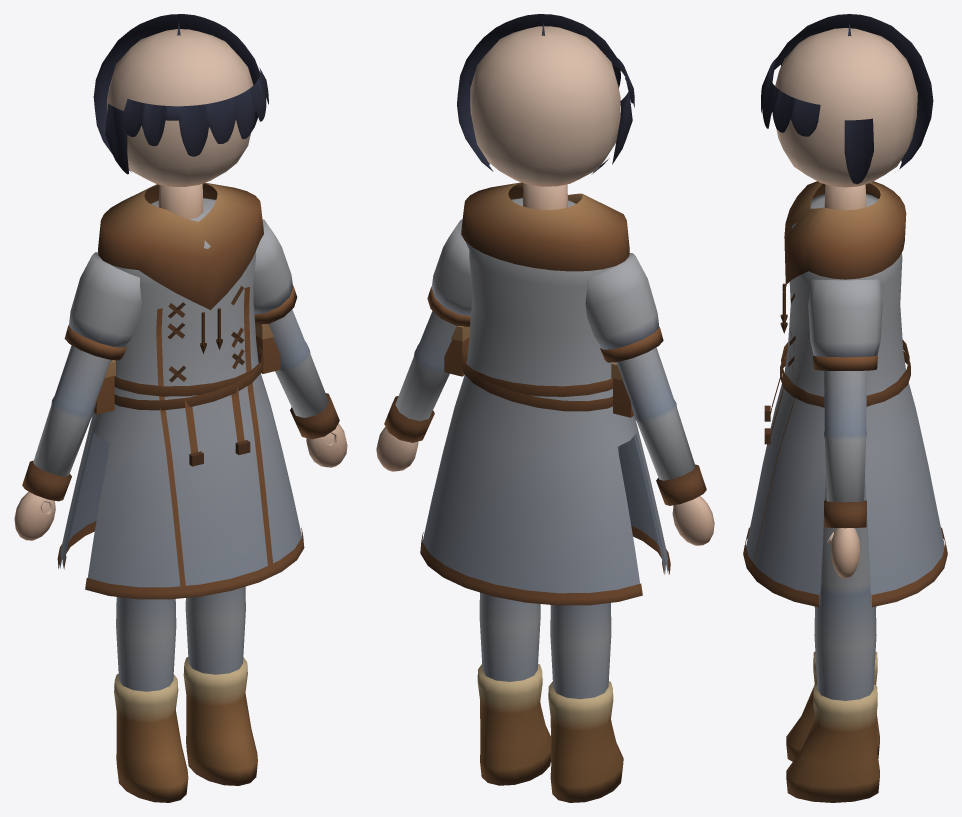
File: rota_down.glb
3 views of the same model, side by side, from view 1: azimuth 30°, elevation 25°; view 2: azimuth 150°, elevation 25°; view 3: azimuth 270°, elevation 25° (orthographic).
Visible parts, largest first — view 1: Rota_Cloth, Rota_Leather, Rota_Body, Rota_Hair; view 2: Rota_Cloth, Rota_Leather, Rota_Body, Rota_Hair; view 3: Rota_Cloth, Rota_Leather, Rota_Body, Rota_Hair.
Boxes of the visible parts, box(x1,y1,x2,y2) form: Rota_Cloth: box(33, 198, 328, 691); Rota_Leather: box(22, 182, 339, 802); Rota_Body: box(14, 29, 347, 540); Rota_Hair: box(93, 14, 268, 174); Rota_Cloth: box(395, 198, 695, 699); Rota_Leather: box(384, 182, 706, 802); Rota_Body: box(376, 26, 714, 545); Rota_Hair: box(457, 14, 634, 174); Rota_Cloth: box(746, 194, 944, 700); Rota_Leather: box(743, 181, 947, 802); Rota_Body: box(775, 28, 917, 578); Rota_Hair: box(761, 14, 933, 184).
Size of the model in its own units: 0.7411 by 1.6 by 0.396.
